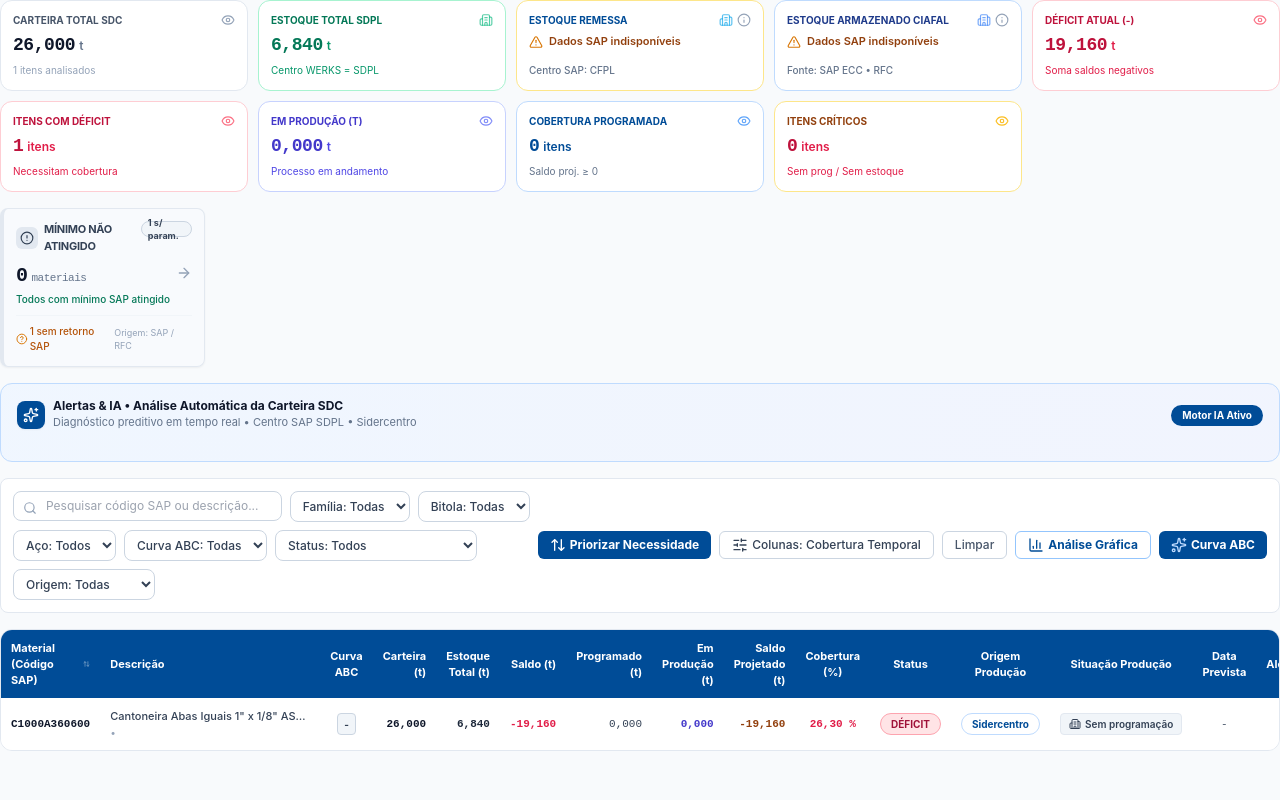
Test: Carteira SDC — Indicadores Estoque Remessa e Estoque Armazenado Ciafal (Cenários 1 a 5) › Cenário 9: Quando o SAP não retornar a quebra por centro (status INDISPONIVEL), exibe "Detalhamento por centro não disponível nesta consulta" sem números invent
Click the button with test id "card-estoque-remessa" at (640, 46), box top-left (516, 0), bottom-right (764, 91)
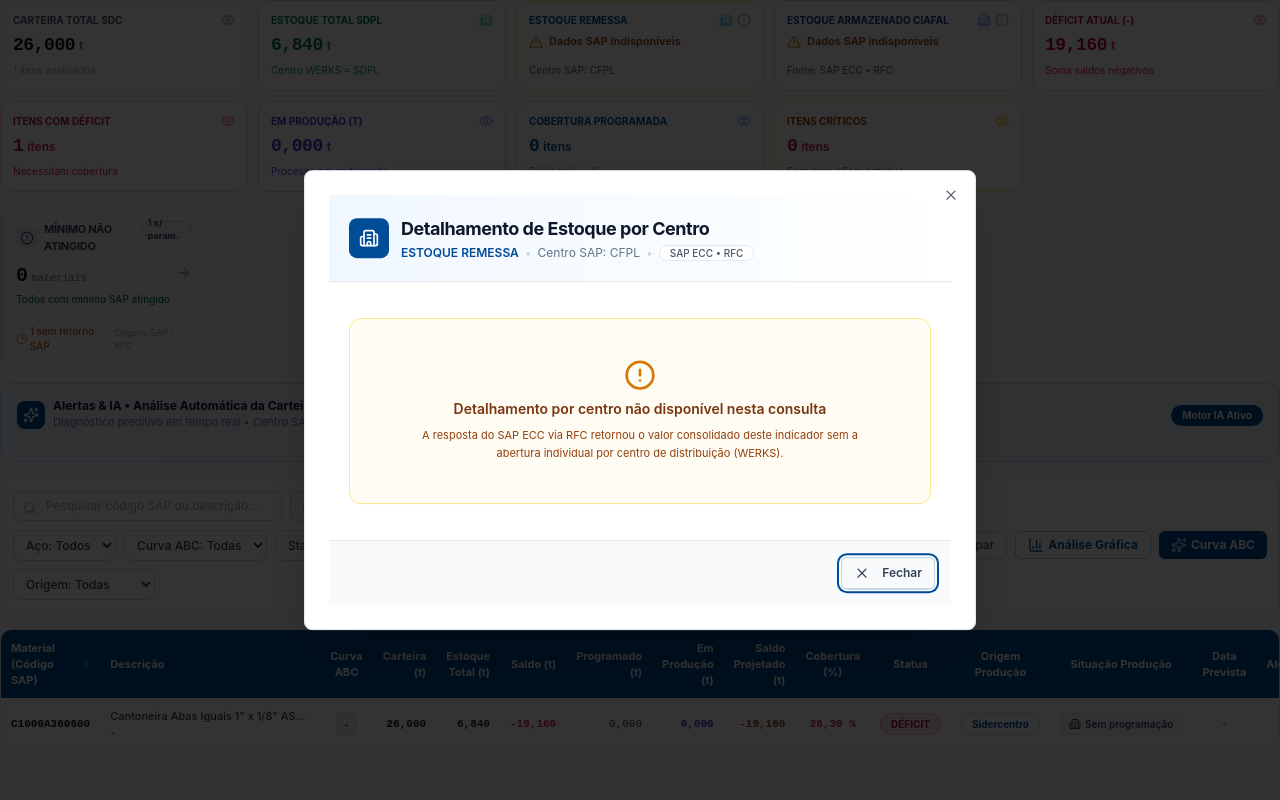
Now the element with test id "aviso-detalhamento-indisponivel" is shown, box top-left (349, 318), bottom-right (931, 504)
Now the text "Detalhamento por centro não disponível nesta consulta" is shown, box top-left (454, 400), bottom-right (826, 417)
